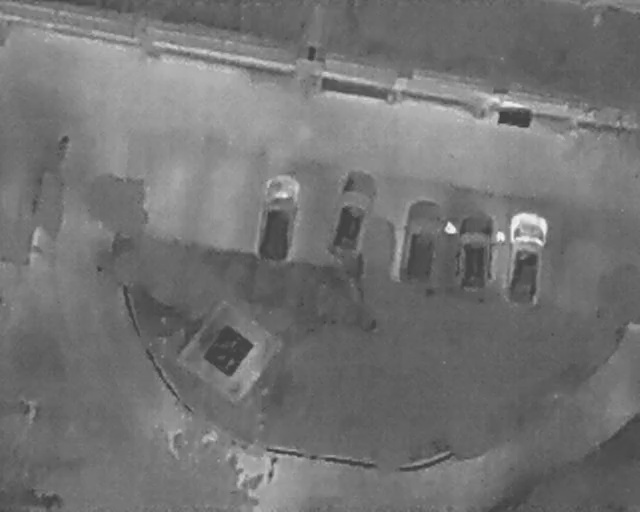Car: (324, 162, 381, 262), (501, 209, 551, 311), (395, 198, 447, 289), (253, 171, 302, 267), (454, 208, 496, 294)
Person: (495, 229, 506, 244), (445, 222, 456, 235)
